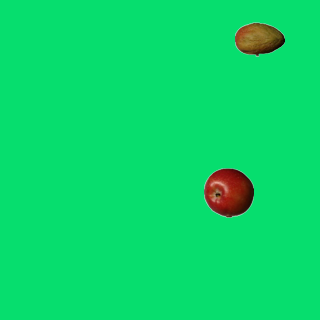Apple Braeburn: (203, 167, 253, 217)
Papaya: (234, 14, 284, 64)
